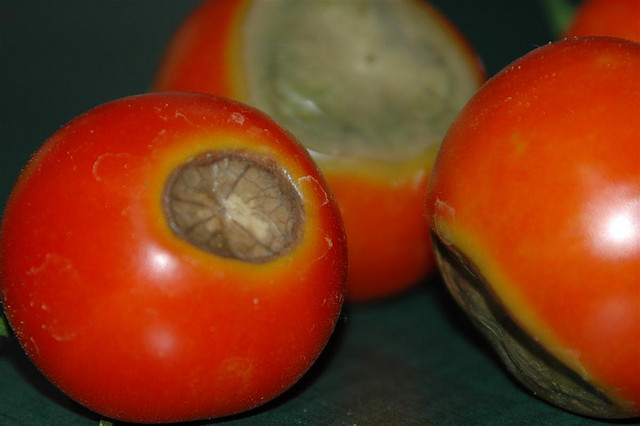blossom_rotw: (153, 133, 301, 274)
